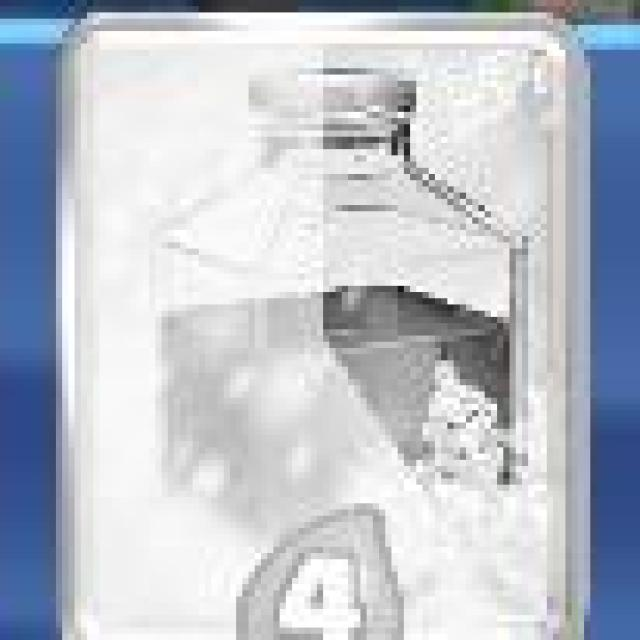Freeze: (57, 14, 587, 636)
